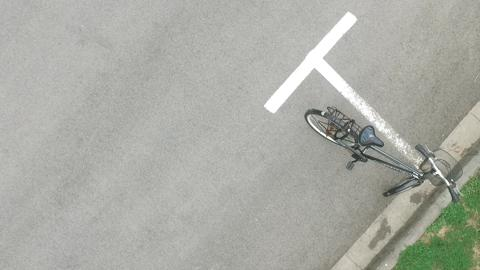bike: (295, 92, 473, 218)
